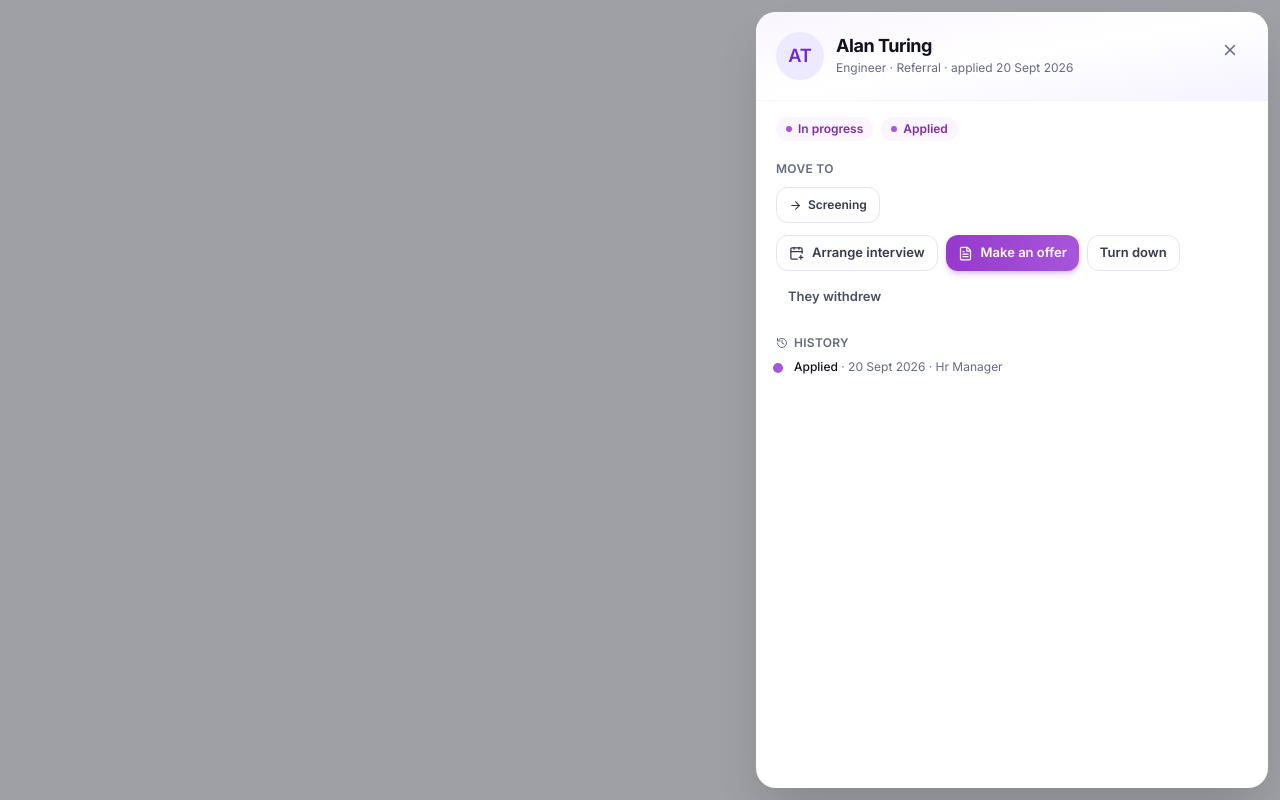
ApplicationPanel › interviews › says who leads a panel before it is arranged
Step 1. Click the button "Arrange interview" → (857, 253), box [776,235,938,271]
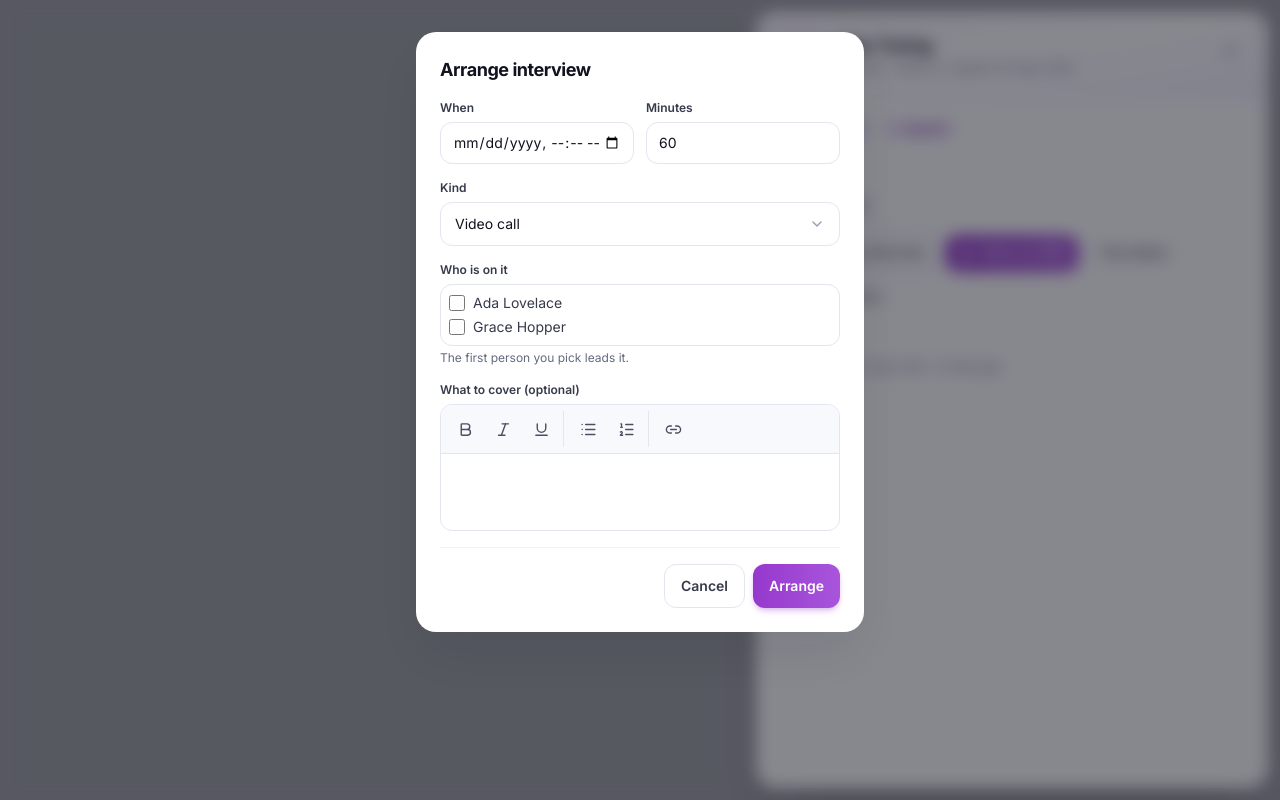
Check: the text "The first person you pick leads it." is shown, box [440,350,629,365]
